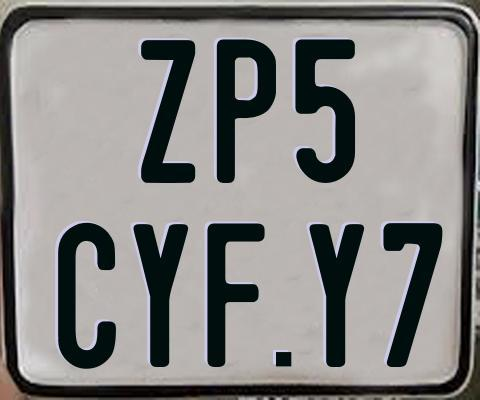5: (294, 38, 355, 187)
7: (380, 223, 440, 370)
C: (55, 222, 117, 374)
F: (205, 223, 269, 370)
P: (214, 37, 279, 181)
Y: (133, 222, 190, 366), (309, 224, 365, 369)
Z: (140, 40, 194, 183)
